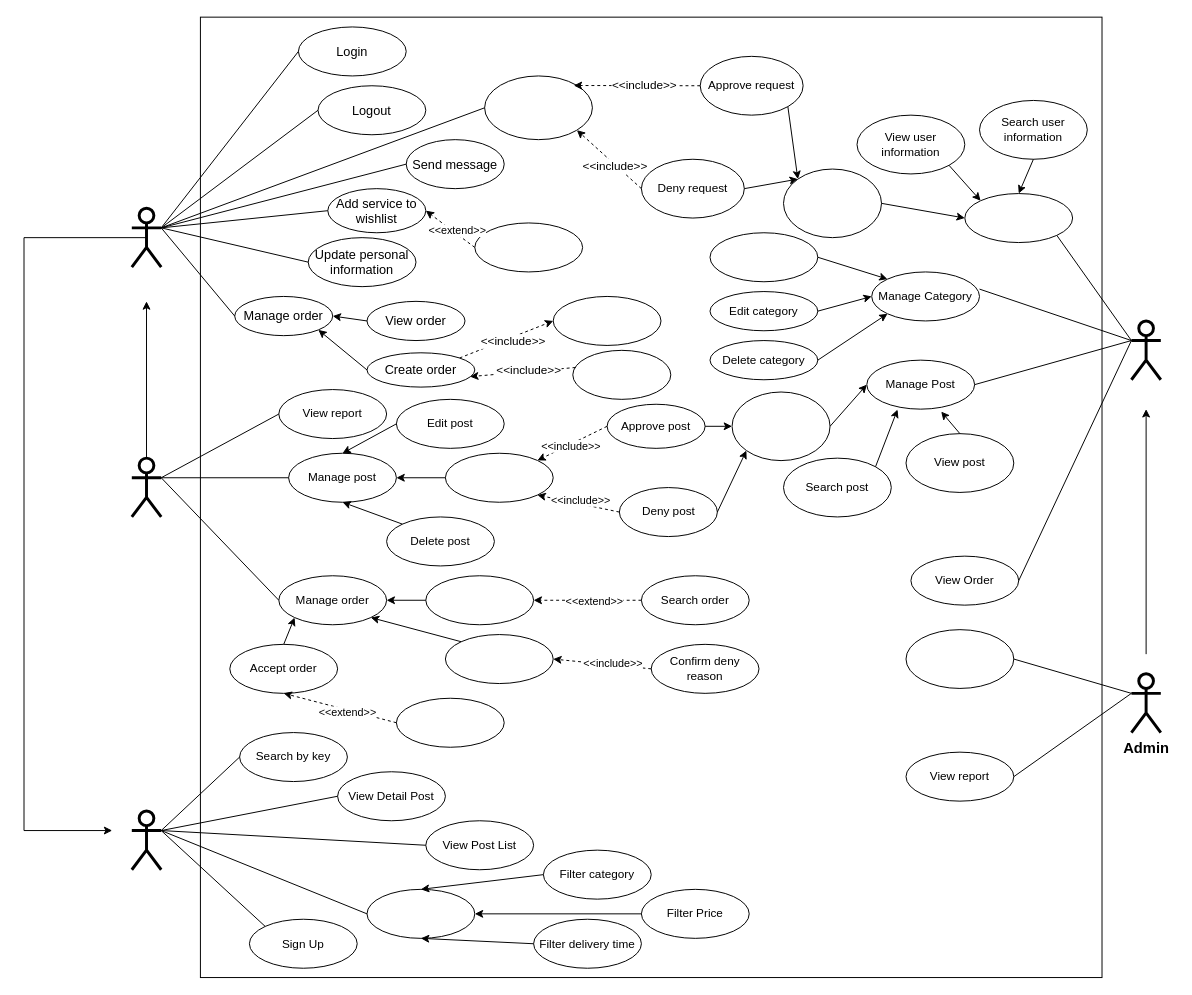
The diagram is 1192 pixels wide and 995 high, and some of its shapes have lost their labels. The shapes that lost their labels are listed below. From the top down, each one's centre as x and y in pixels, then its label:
pixel 538 107: Request become Seller
pixel 832 203: Approve/ deny Seller role
pixel 1018 218: Manage User
pixel 146 237: Buyer
pixel 528 247: View wishlist
pixel 763 257: Add new category
pixel 606 320: Select package
pixel 1145 350: Manager
pixel 621 374: Pay order
pixel 780 426: Approve/ deny Post
pixel 146 487: Seller
pixel 498 477: Create post
pixel 479 600: View order list
pixel 498 659: Deny order
pixel 959 658: Create Manager role
pixel 449 722: Confirm finish order
pixel 146 840: Guest
pixel 420 913: Filter
